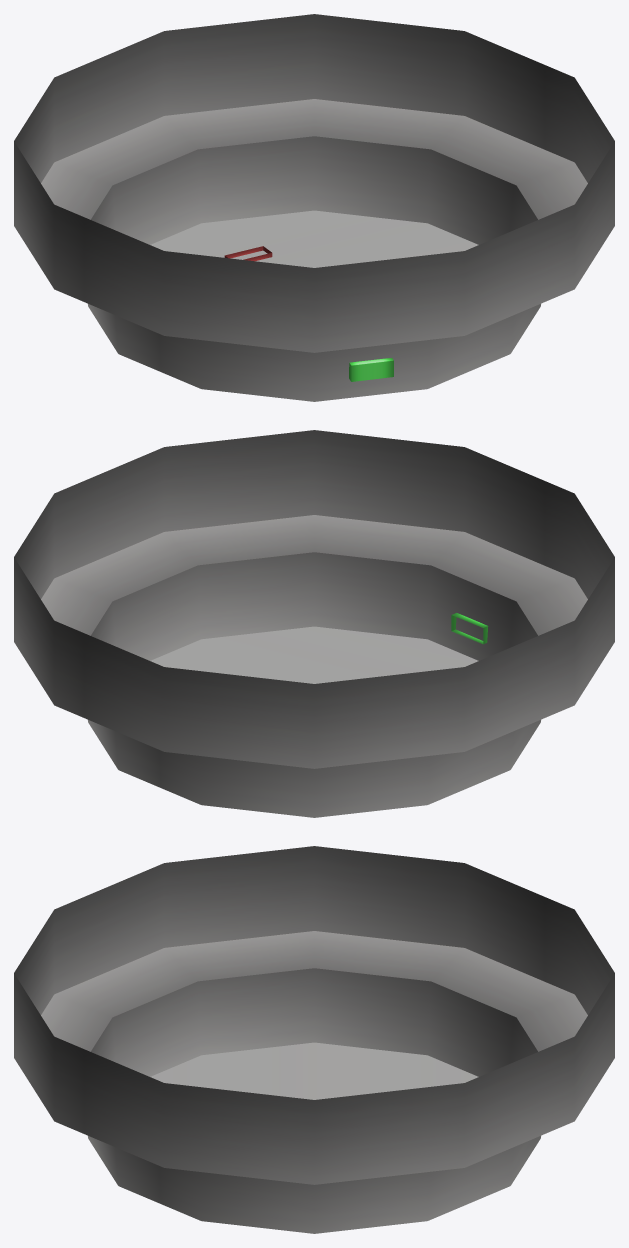
The model's file is Smoke_Detector.fbx.
3 views of the same model, one above another, from view 1: azimuth 30°, elevation 25°; view 2: azimuth 150°, elevation 25°; view 3: azimuth 270°, elevation 25° (orthographic).
Visible parts, largest first — view 1: Smoke_Detector; view 2: Smoke_Detector; view 3: Smoke_Detector.
Boxes of the visible parts, x1,y1,x2,y2 form: Smoke_Detector: (14,14,614,401); Smoke_Detector: (14,430,614,817); Smoke_Detector: (14,846,614,1233).
Size of the model in its own units: 13.98 by 4.47 by 13.98.
